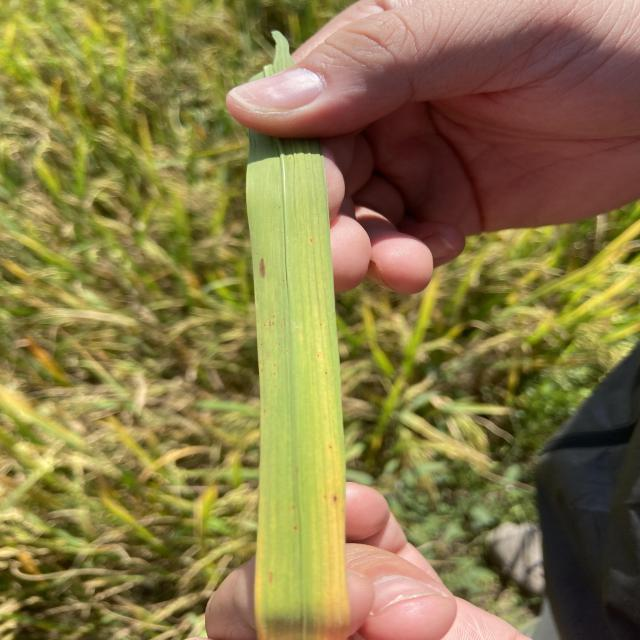Dom nau: (260, 258, 265, 278), (333, 496, 337, 501), (310, 239, 312, 242), (320, 323, 322, 325), (269, 324, 271, 326), (325, 372, 327, 374), (283, 279, 284, 281), (273, 316, 275, 317), (264, 324, 265, 326), (281, 325, 282, 327), (269, 322, 271, 323), (272, 323, 274, 324)
